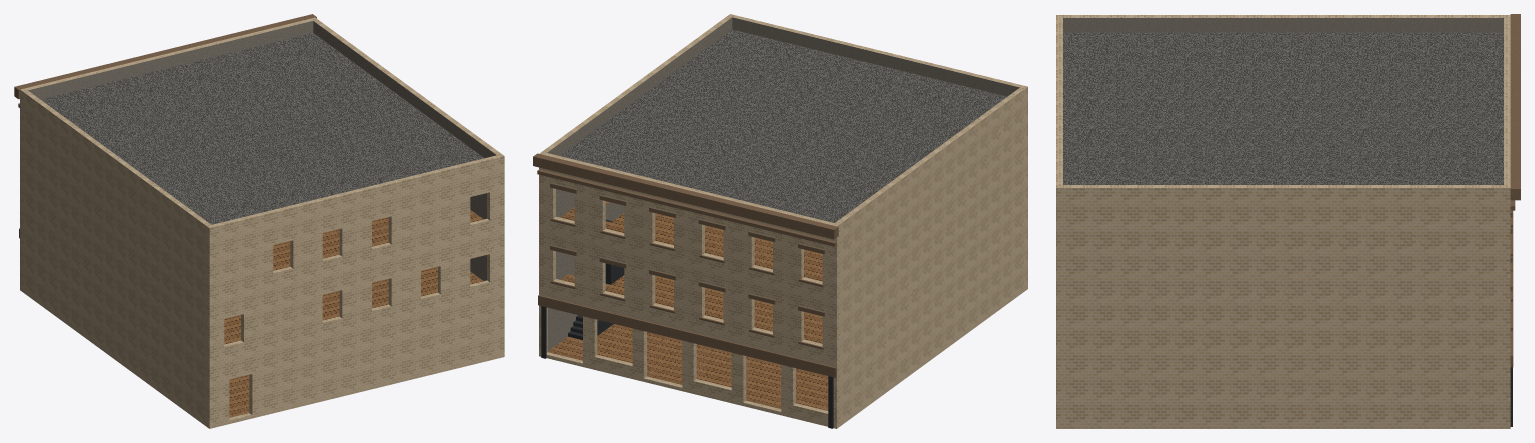
File: main_street_tan_18m_3st.glb
3 renders of one model, left to right at view 1: azimuth 30°, elevation 25°; view 2: azimuth 150°, elevation 25°; view 3: azimuth 270°, elevation 25°, orthographic. The views are drawn at different scales.
Parts seen in each view (by area): view 1: main_street_tan_18m_3st; view 2: main_street_tan_18m_3st; view 3: main_street_tan_18m_3st.
Boxes of the visible parts, x1,y1,x2,y2 form: main_street_tan_18m_3st: [14, 14, 504, 428]; main_street_tan_18m_3st: [533, 14, 1027, 428]; main_street_tan_18m_3st: [1056, 14, 1520, 428].
Bounding box in the file's own units: 18.2 × 11.7 × 20.45.
6 materials, 6 textured.
